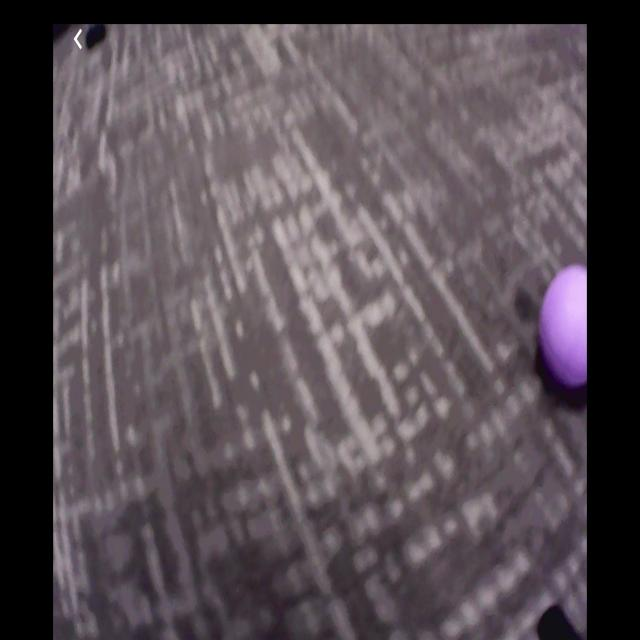ball: (541, 266, 588, 388)
